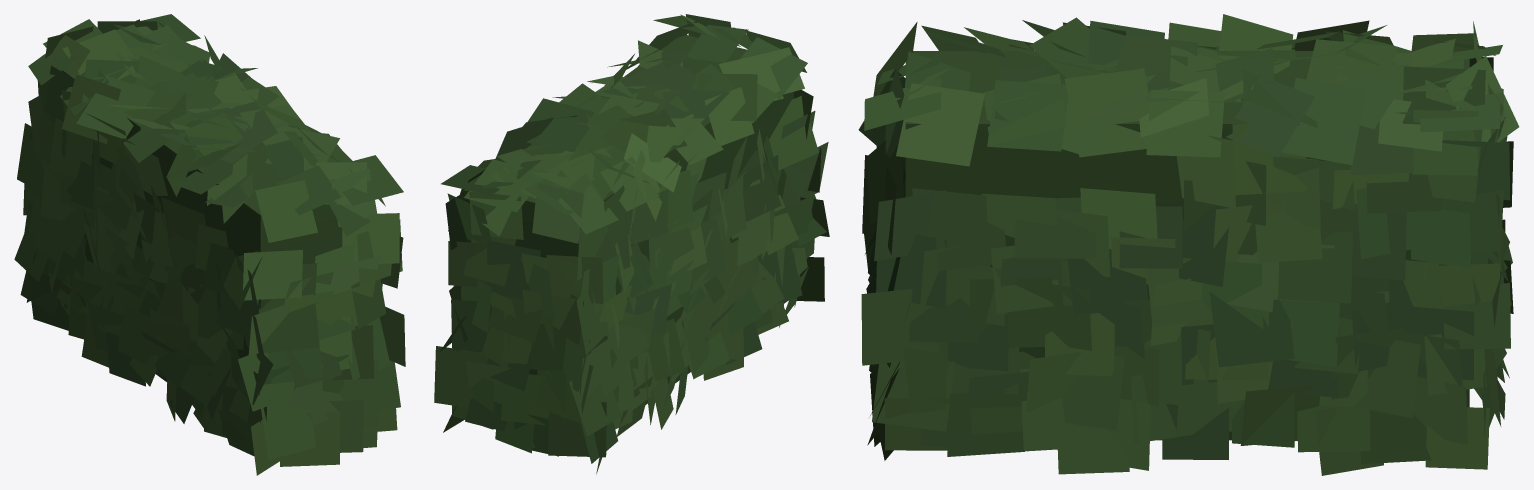
The model's file is hedge.yew.green.glb.
3 renders of one model, left to right at view 1: azimuth 30°, elevation 25°; view 2: azimuth 150°, elevation 25°; view 3: azimuth 270°, elevation 25°, orthographic. The views are drawn at different scales.
Parts seen in each view (by area): view 1: hedge_yew_green; view 2: hedge_yew_green; view 3: hedge_yew_green.
Boxes of the visible parts, x1,y1,x2,y2 form: hedge_yew_green: (14,14,405,475); hedge_yew_green: (434,14,829,473); hedge_yew_green: (858,14,1519,475).
Size of what is drawn, in the model's own units: 1.66 by 2.59 by 4.05.
